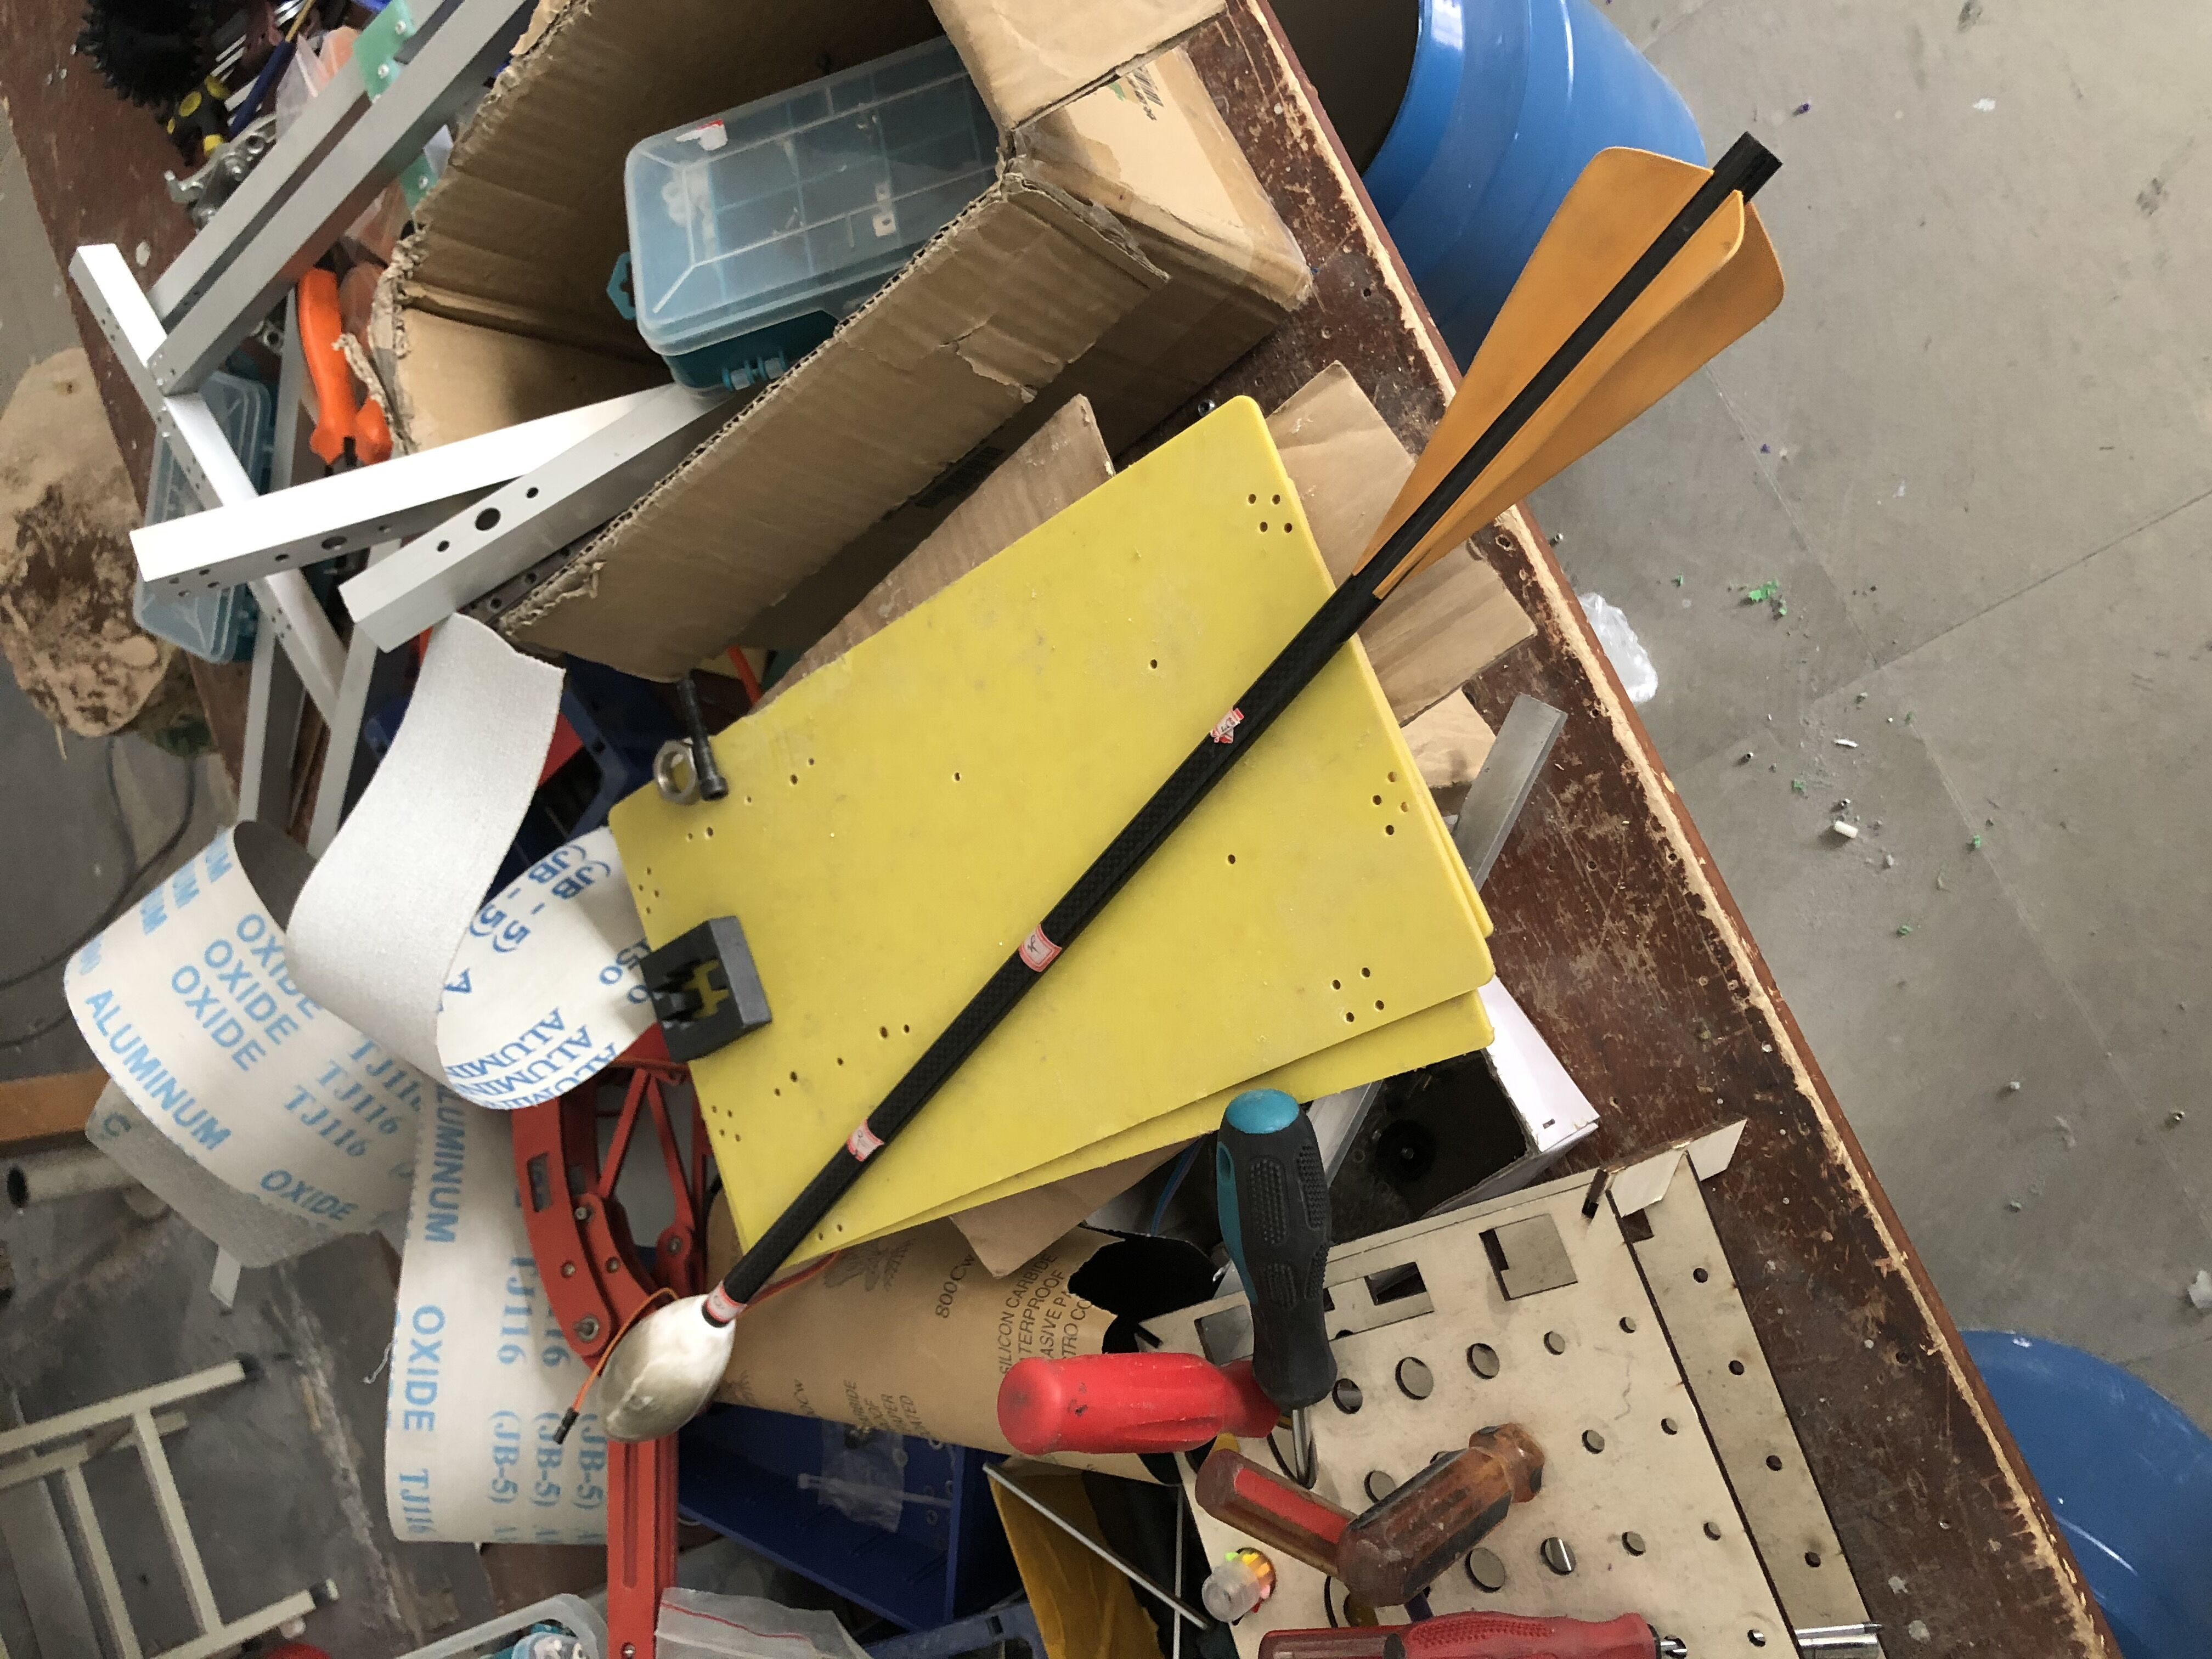arrow: (597, 131, 1791, 1443)
arrowFront: (599, 1291, 740, 1448)
